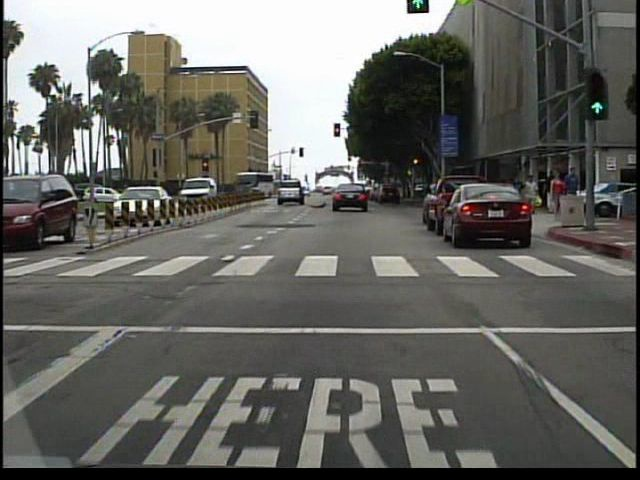person: (563, 166, 581, 223), (549, 171, 567, 223), (523, 172, 539, 203)
